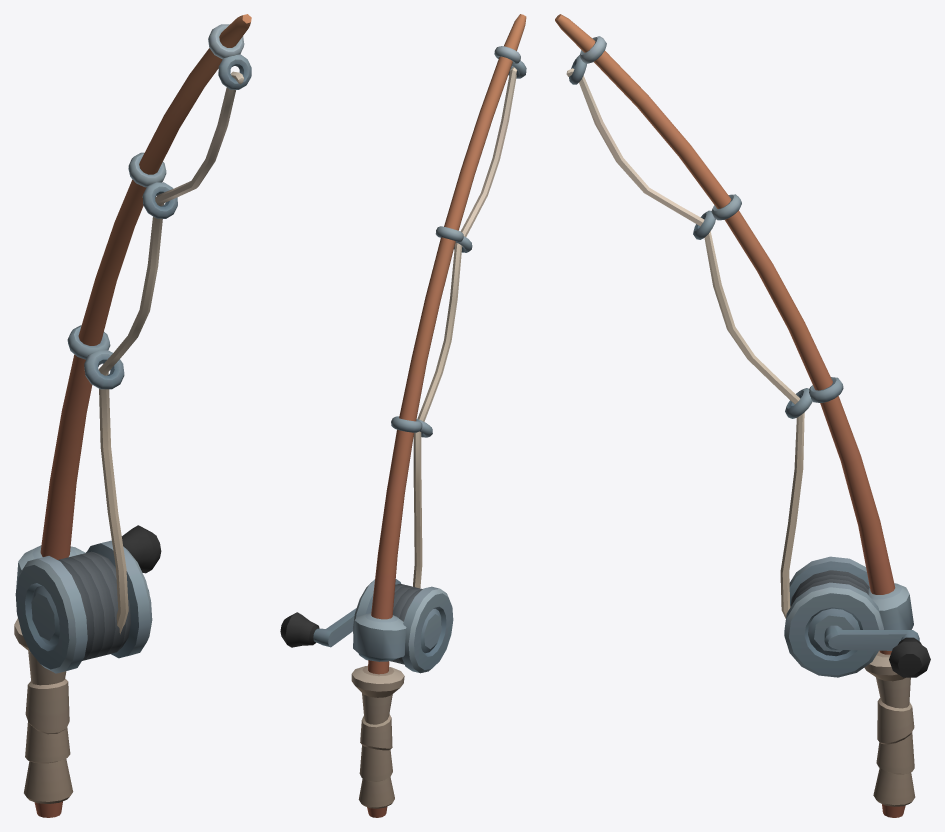
File: fishing_rod_base.gltf
The picture shows the model from 3 angles, left to right: view 1: azimuth 30°, elevation 25°; view 2: azimuth 150°, elevation 25°; view 3: azimuth 270°, elevation 25°; orthographic projection. The views are drawn at different scales.
Parts seen in each view (by area): view 1: fishing_rod_base, fishing_rod_base_reelhandle; view 2: fishing_rod_base, fishing_rod_base_reelhandle; view 3: fishing_rod_base, fishing_rod_base_reelhandle.
Boxes of the visible parts, bbox=[...] form: fishing_rod_base: bbox=[14, 14, 251, 817]; fishing_rod_base_reelhandle: bbox=[86, 525, 161, 592]; fishing_rod_base: bbox=[351, 14, 526, 817]; fishing_rod_base_reelhandle: bbox=[280, 608, 356, 647]; fishing_rod_base: bbox=[555, 14, 915, 817]; fishing_rod_base_reelhandle: bbox=[824, 625, 930, 677].
Bounding box in the file's own units: 0.4509 × 2.61 × 1.11.
1 material, 1 textured.
